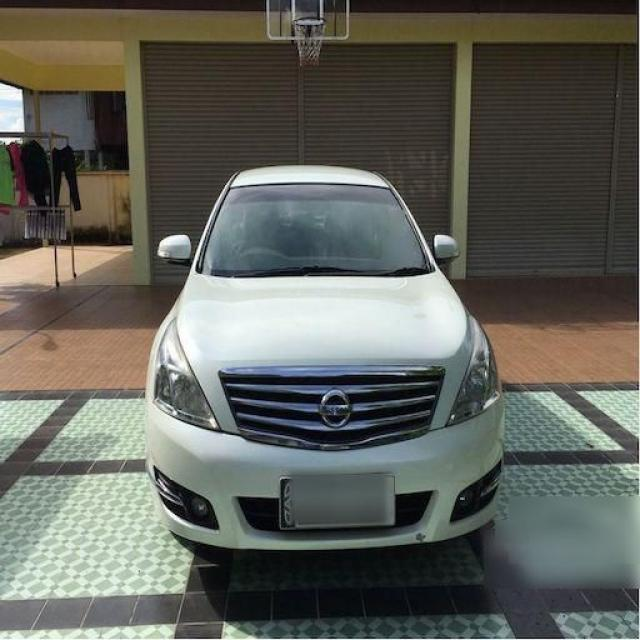front_bumper: (146, 396, 507, 552)
front_glass: (195, 184, 435, 278)
front_left_light: (449, 313, 504, 425)
front_right_light: (153, 317, 221, 432)
hood: (177, 271, 471, 450)
left_mirror: (434, 233, 460, 266)
right_mirror: (157, 234, 194, 268)
